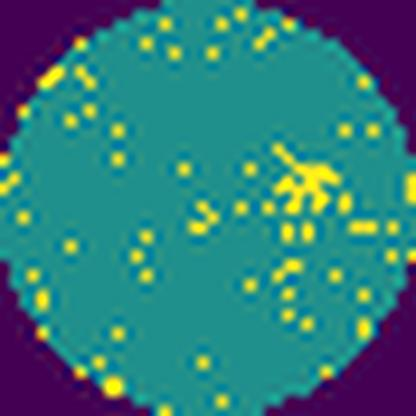Loc: (269, 142, 346, 218)
